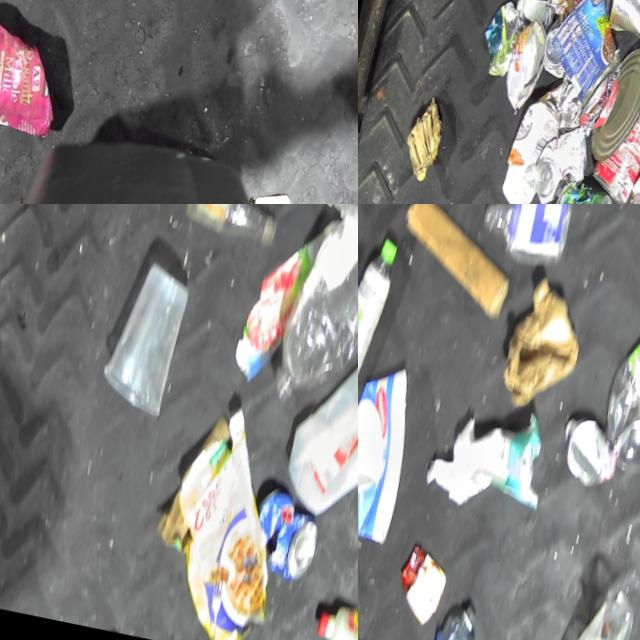can: (537, 0, 635, 112), (237, 469, 329, 583), (543, 405, 625, 499), (581, 78, 640, 204), (582, 39, 640, 165), (525, 117, 594, 204), (497, 13, 553, 114), (536, 13, 574, 80), (545, 177, 615, 204), (601, 0, 640, 48), (542, 0, 623, 22), (510, 0, 559, 30), (622, 154, 640, 204)
milk_jug: (270, 319, 358, 531)
non_white_jug: (488, 271, 594, 420)
plastic_bottle: (262, 204, 358, 421), (587, 286, 640, 491), (423, 606, 488, 640)
